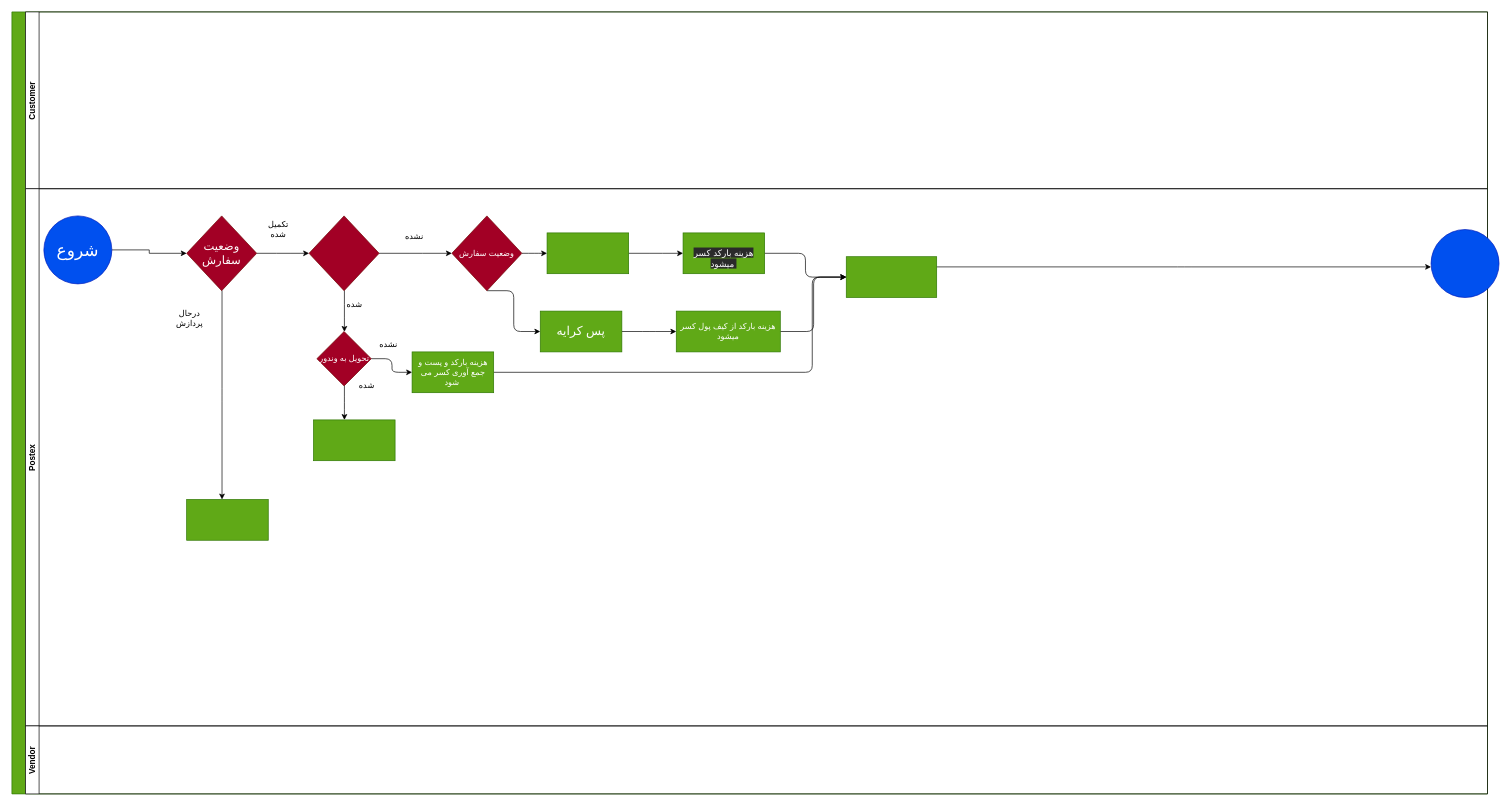
The diagram is 1511 pixels wide and 806 high, and some of its shapes have lost their labels. Here are the shapes that lost their labels. From the top down, the box of each, then its label:
(308, 215, 379, 291): وضعیت جمع آروی
(546, 232, 629, 274): پیش کرایه
(1430, 229, 1499, 298): پایان
(846, 256, 937, 298): هزنه ها عودت داده می شود
(313, 419, 395, 461): امکان کنسلی وجود ندارد
(186, 499, 268, 540): تمامی هزینه ها عودت داده می شود
